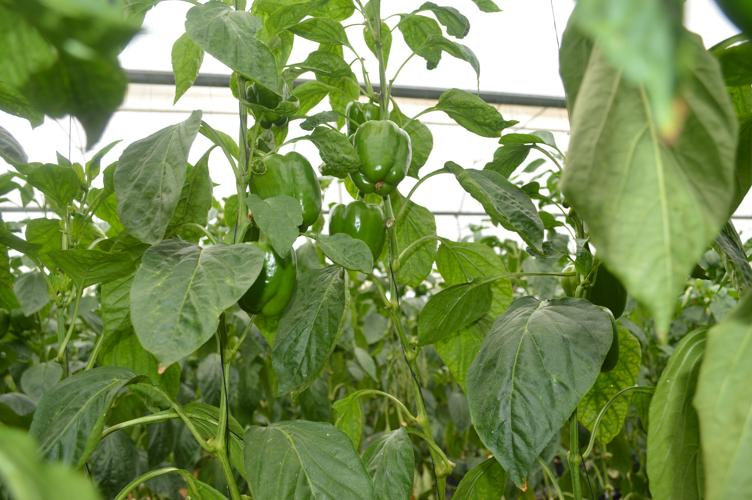BellPepper: (248, 144, 324, 235), (343, 118, 423, 197), (233, 239, 300, 317), (322, 194, 386, 270)
